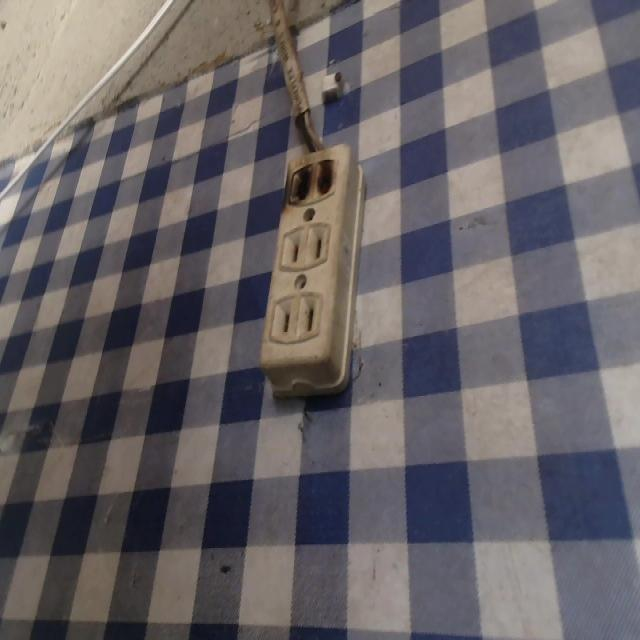-: (284, 156, 340, 201)
